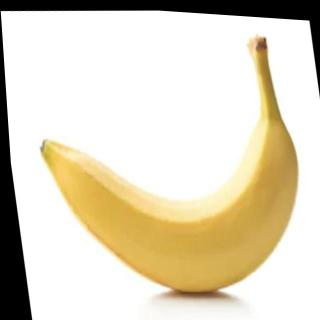banana: (31, 93, 315, 309)
